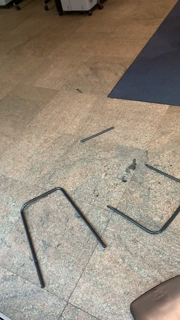U pipe: (20, 184, 110, 291)
i pipe: (80, 126, 117, 147)
